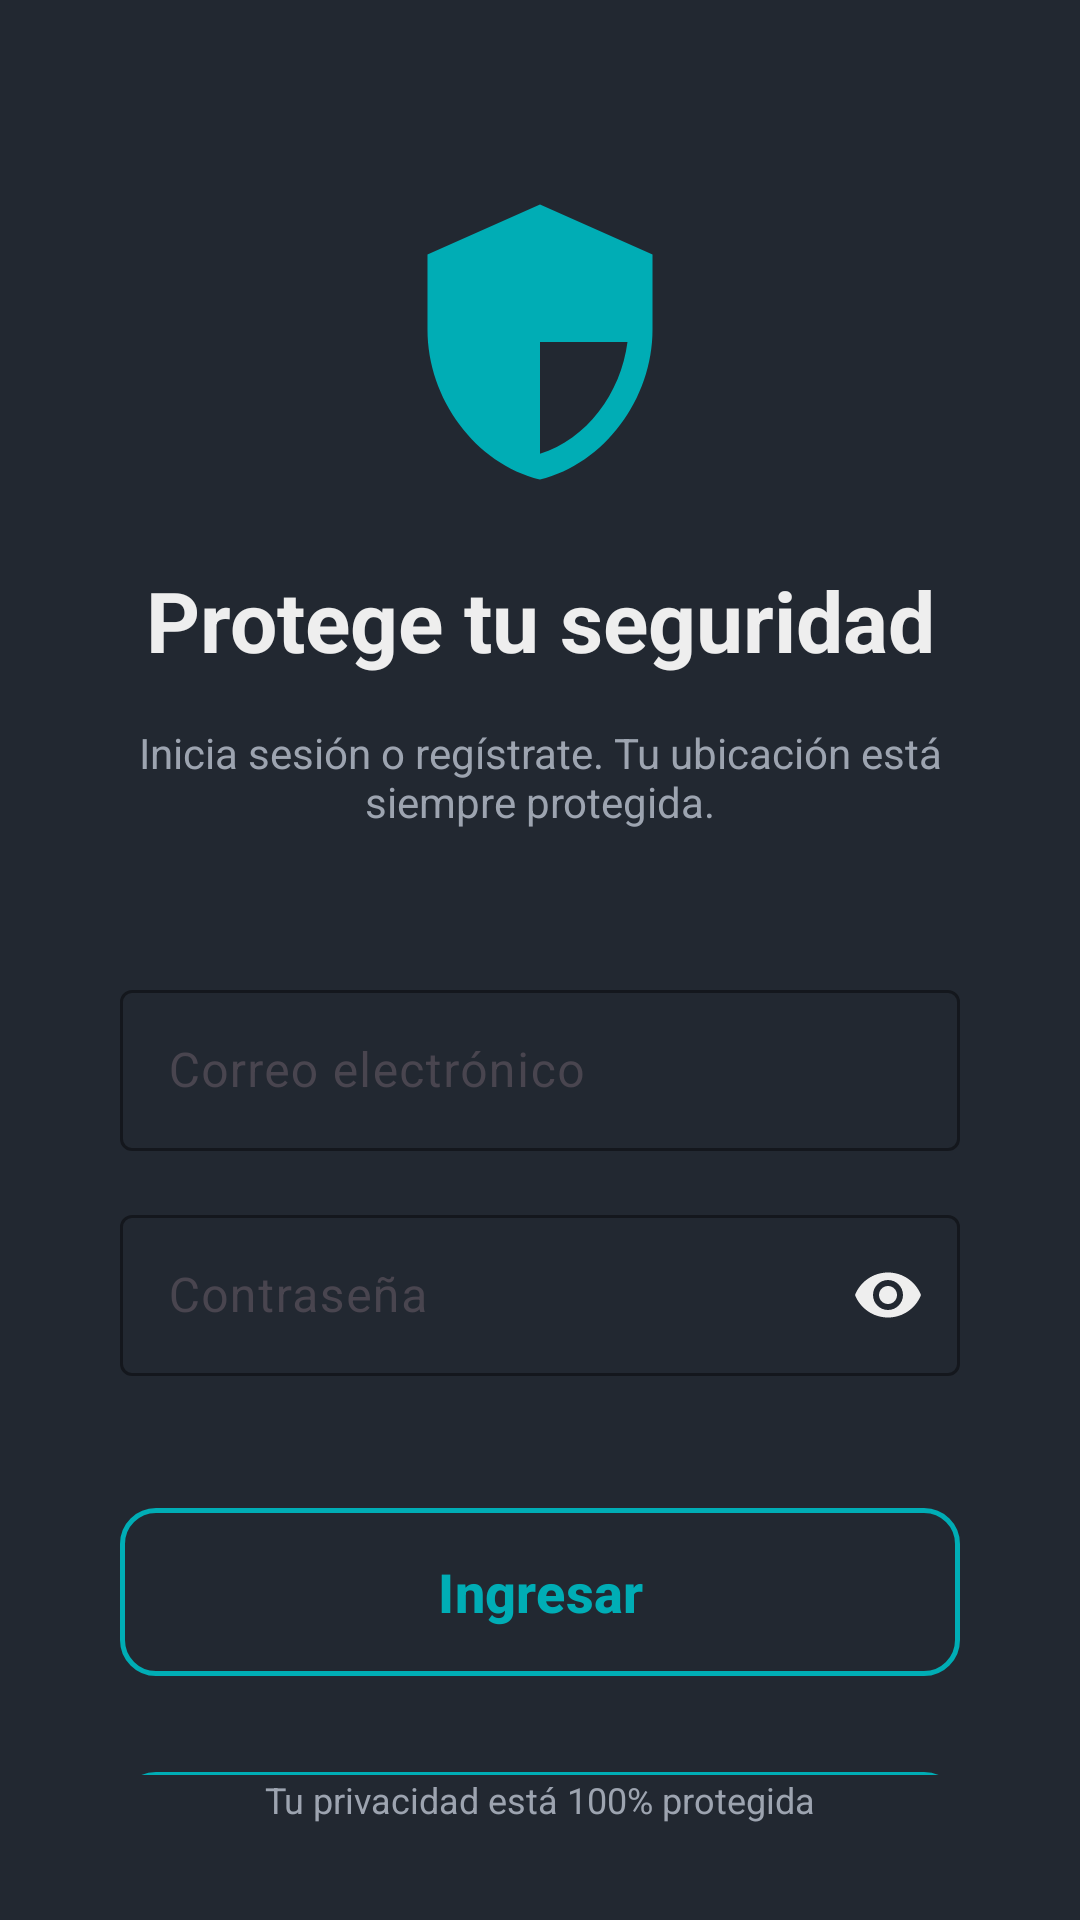

Where icons sit on this 1080px x 1920px app screen, as (x1, y1, x2, y2):
shield security: (427, 204, 653, 480)
